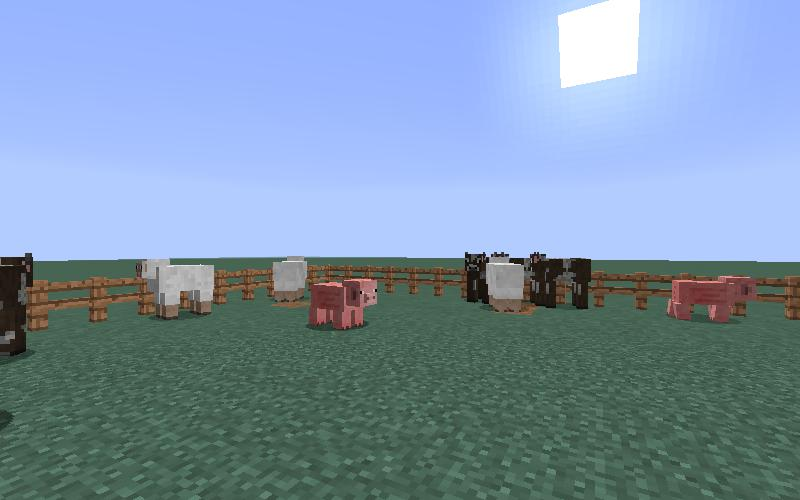cow: (528, 252, 594, 313), (2, 254, 33, 354)
pig: (664, 273, 760, 334), (305, 275, 381, 338)
sheep: (134, 255, 217, 324), (484, 255, 527, 317), (271, 256, 309, 305)
